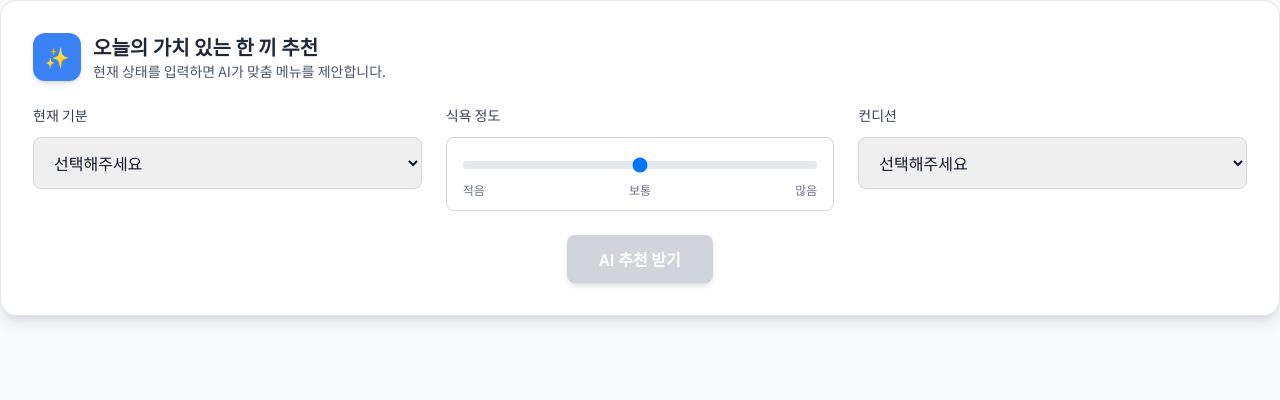
AiRecommendationWidget › 에러 발생 시 메시지를 노출한다
Select "좋음" in the dropdown with test id "mood-select" at [227, 163], box [33,137,422,189]
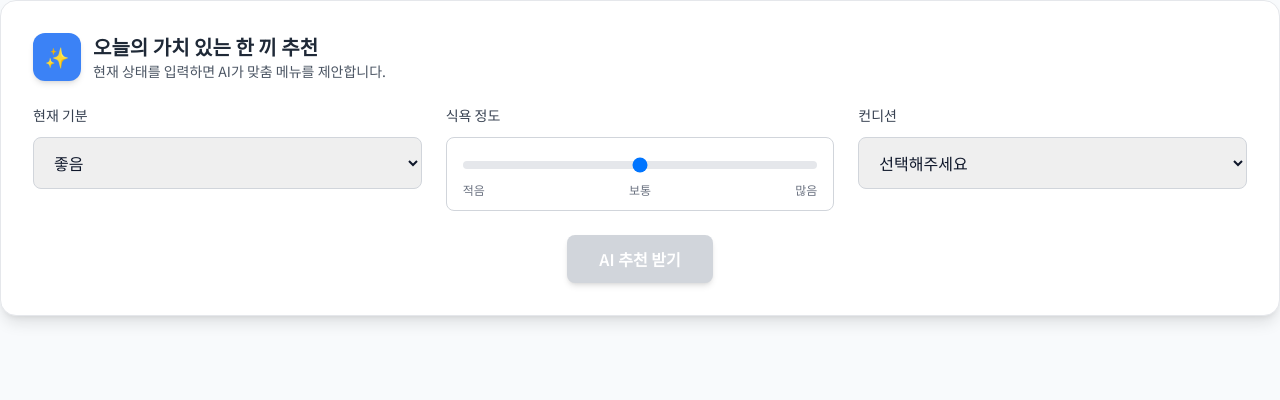
Select "보통" in the dropdown with test id "condition-select" at [1053, 163], box [858,137,1247,189]
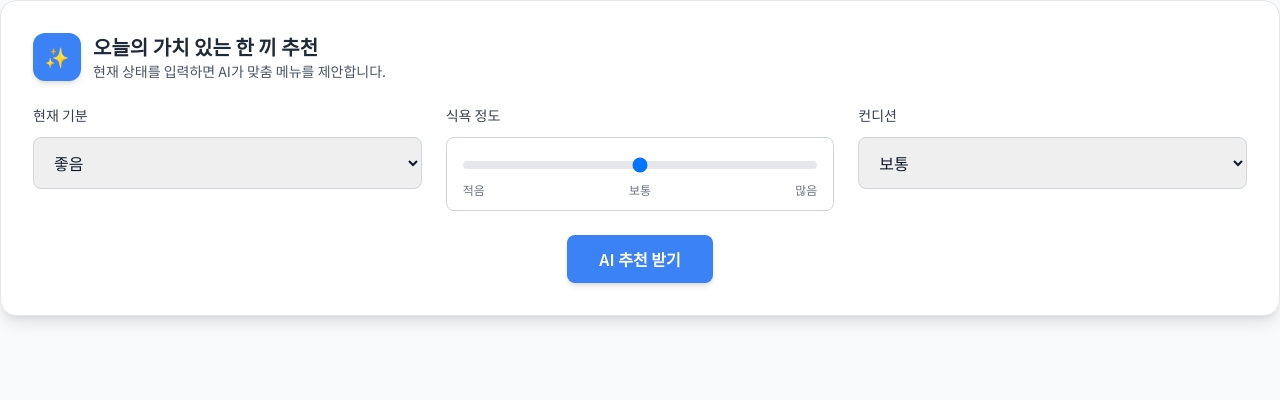
Click the button with test id "recommend-btn" at [640, 259], box [567,235,713,283]
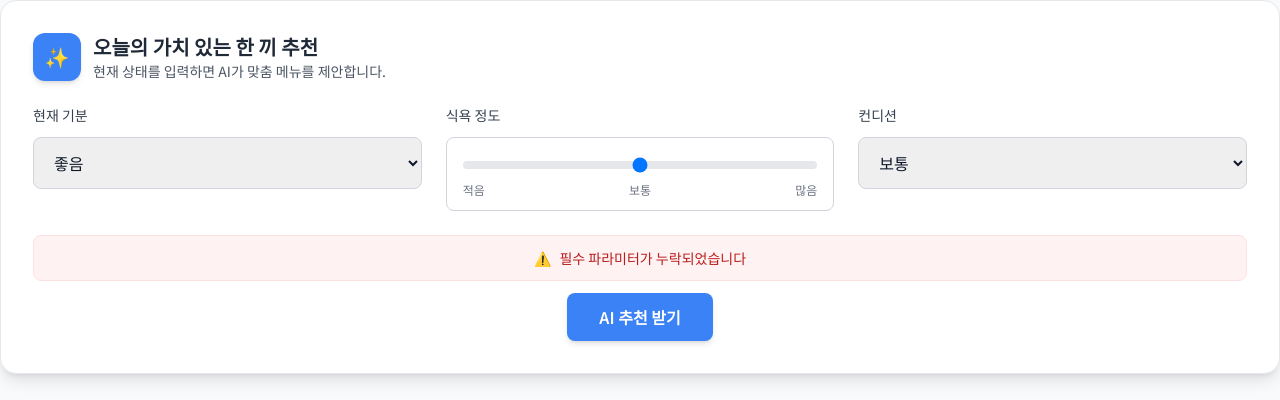
Now the text "필수 파라미터가 누락되었습니다" is shown, box [559,248,746,268]
